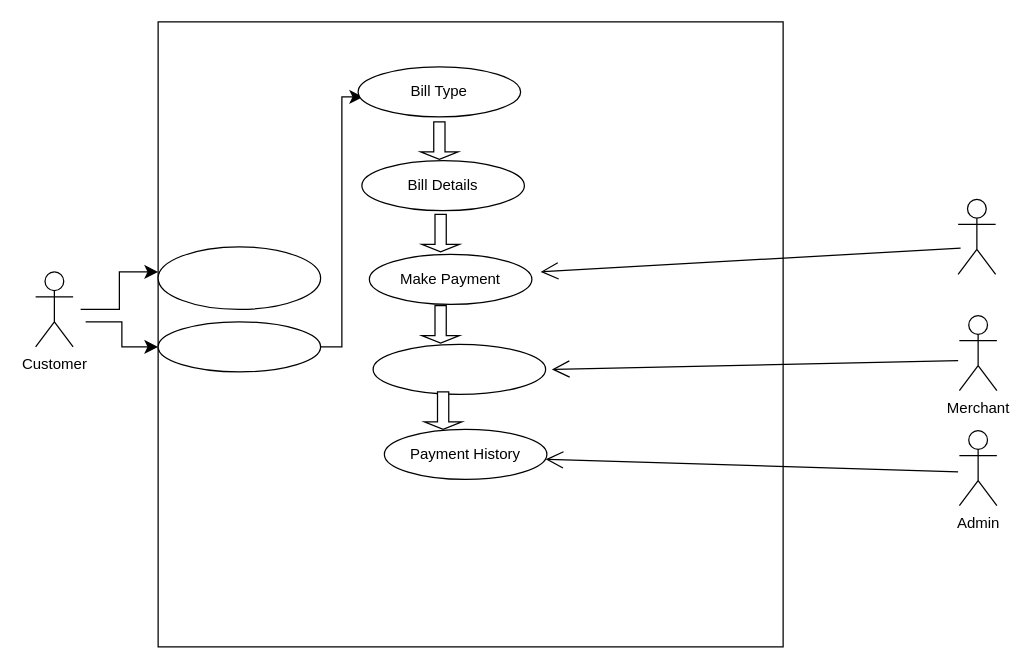
This 1030x669 diagram has some shape labels left out. Here are the shapes that lost their labels. From the top down, the centre of each, then its label:
At (976,236): "Bank".
At (239,277): "Registration".
At (239,346): "Login".
At (459,368): "Payment Confirmation".
